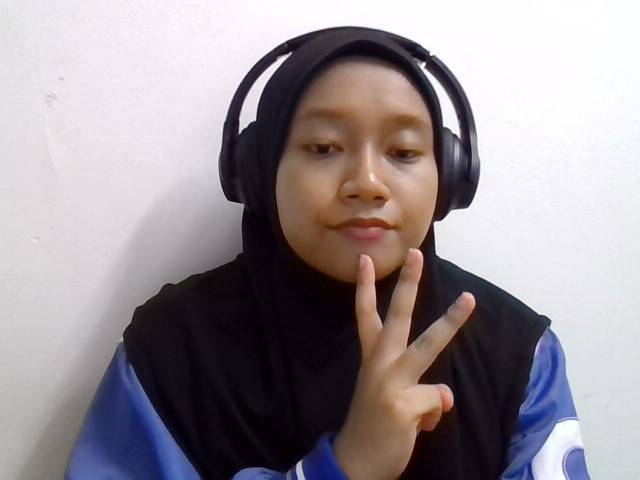Air: (323, 207, 474, 475)
